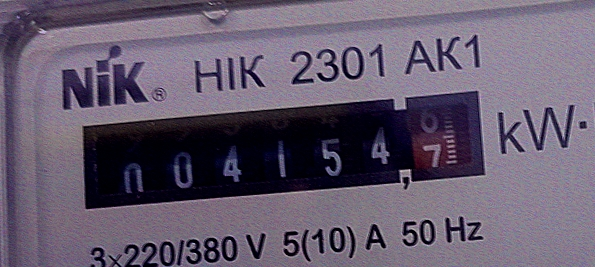0: (169, 148, 195, 191), (120, 158, 145, 194)
1: (273, 137, 289, 180)
4: (218, 142, 244, 185), (367, 122, 391, 167)
5: (318, 132, 345, 178)
6: (417, 104, 441, 135)
7: (420, 140, 443, 170)
screen: (62, 75, 503, 224)
